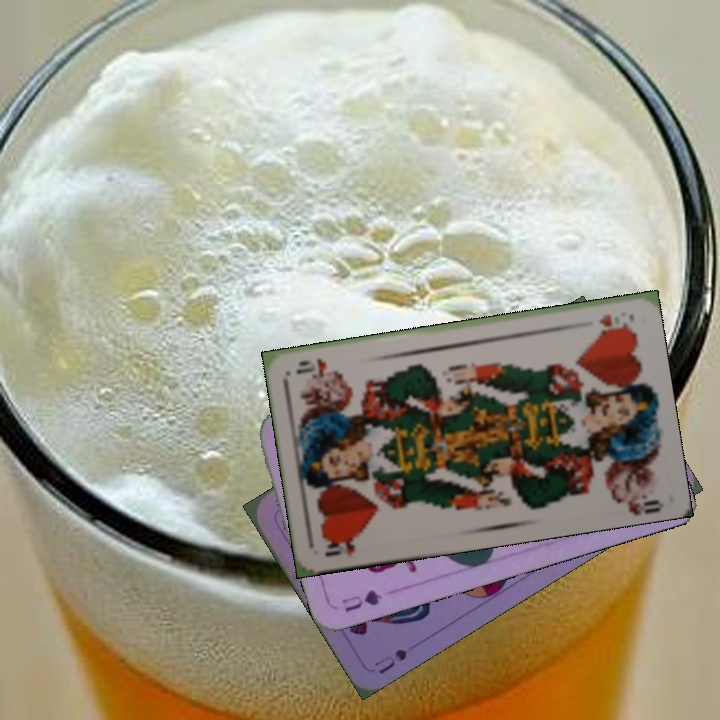GU: (338, 585, 385, 615)
HO: (321, 532, 363, 560), (596, 310, 631, 333)
SU: (370, 644, 410, 677)
